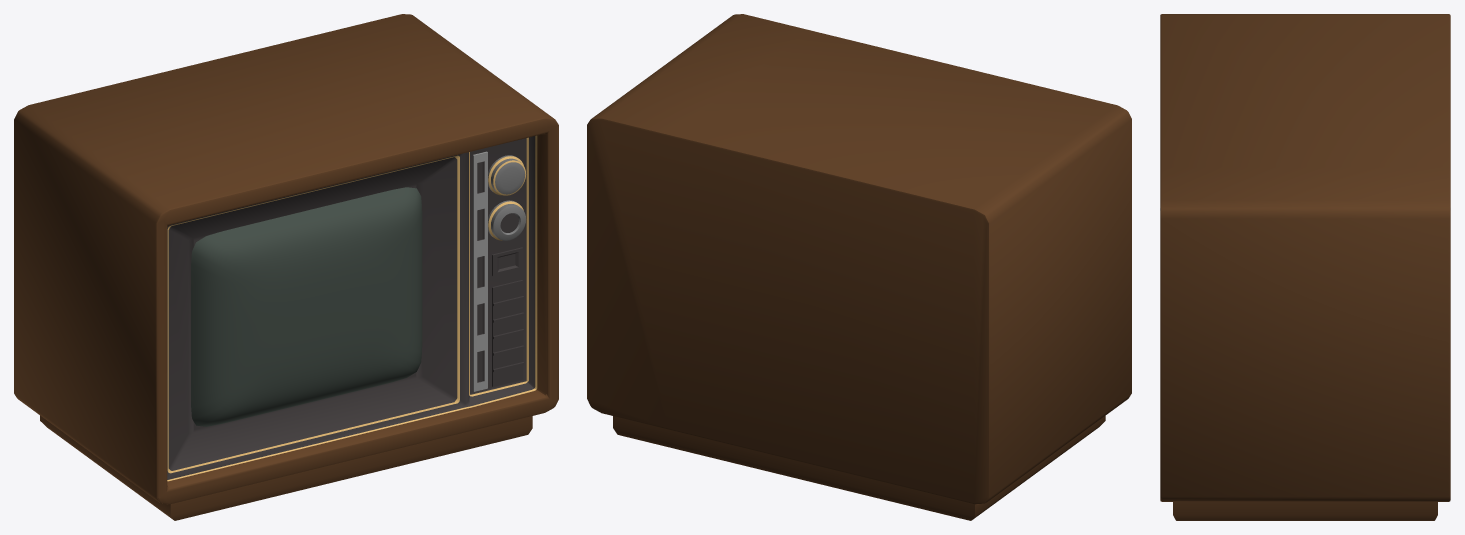
File: Tele 1.fbx
3 views of the same model, side by side, from view 1: azimuth 30°, elevation 25°; view 2: azimuth 150°, elevation 25°; view 3: azimuth 270°, elevation 25° (orthographic).
Parts seen in each view (by area): view 1: Cube, Cube.001, Cube.002, Circle.002, Circle.001; view 2: Cube; view 3: Cube.
Part boxes in pixels (box(x1,y1,x2,y2)): Cube: box(14, 14, 558, 520); Cube.001: box(191, 187, 422, 426); Cube.002: box(473, 151, 524, 391); Circle.002: box(488, 155, 525, 195); Circle.001: box(488, 200, 525, 240); Cube: box(587, 14, 1131, 520); Cube: box(1160, 14, 1450, 520).
Size of the model in its own units: 325 by 248 by 200.
